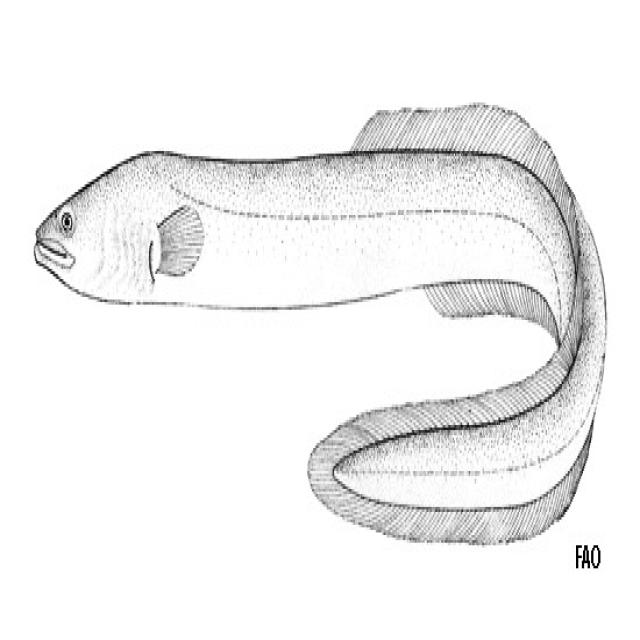Freshwater-Eel: (26, 58, 610, 562)
